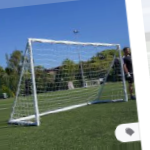goals: (8, 35, 129, 124)
